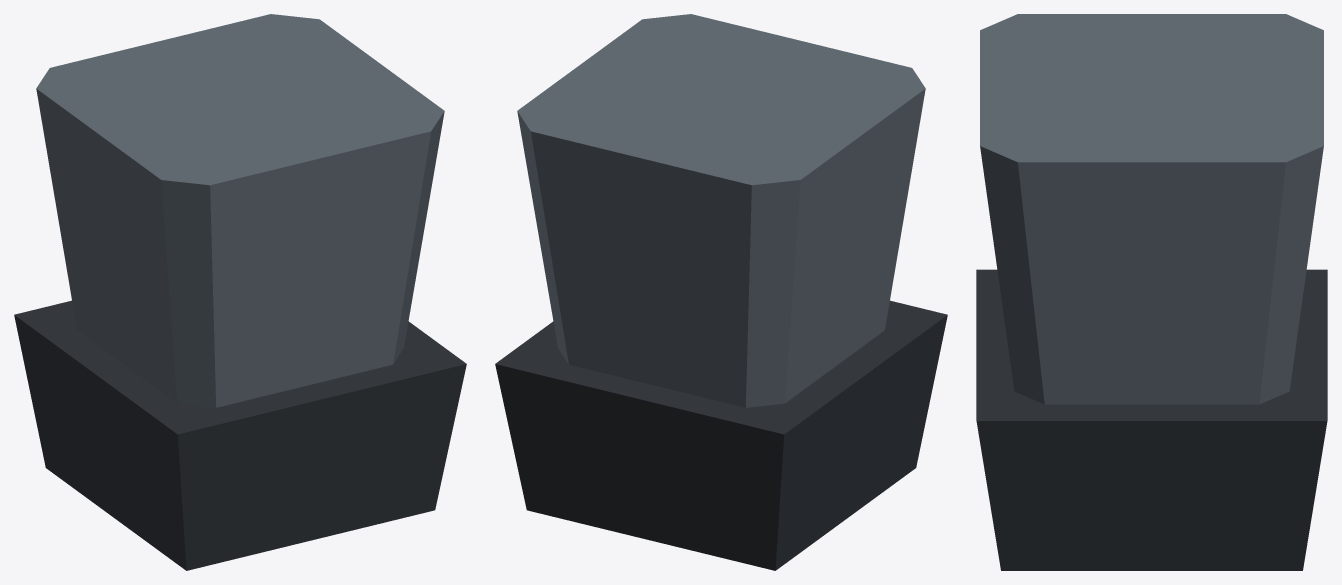
The model's file is pc_assault_lower_leg.fbx.
3 views of the same model, side by side, from view 1: azimuth 30°, elevation 25°; view 2: azimuth 150°, elevation 25°; view 3: azimuth 270°, elevation 25° (orthographic). The views are drawn at different scales.
Visible parts, largest first — view 1: pc_assault_lower_leg; view 2: pc_assault_lower_leg; view 3: pc_assault_lower_leg.
Boxes of the visible parts, <box> form: pc_assault_lower_leg: <box>14,14,466,570</box>; pc_assault_lower_leg: <box>495,14,947,570</box>; pc_assault_lower_leg: <box>976,14,1327,570</box>.
Size of the model in its own units: 101 by 130 by 99.
